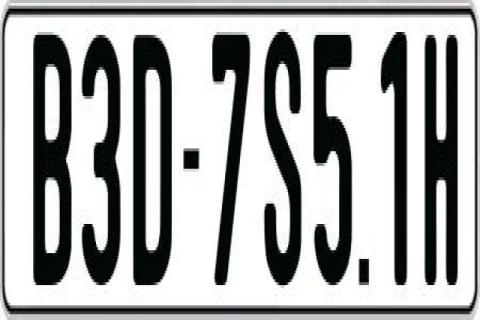0: (81, 29, 125, 291), (310, 35, 354, 297), (210, 32, 248, 291), (379, 27, 405, 280)
B: (32, 35, 74, 299)
D: (132, 29, 172, 288)
H: (424, 26, 458, 288)
S: (263, 26, 303, 288)
